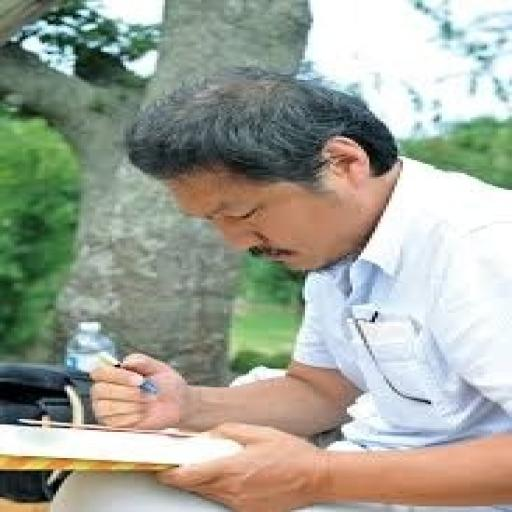sitting: (81, 65, 509, 510)
